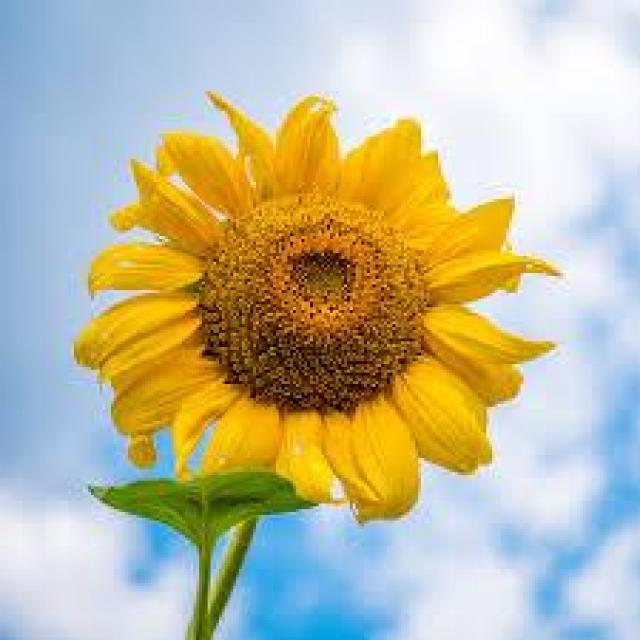organic waste: (84, 82, 559, 518)
